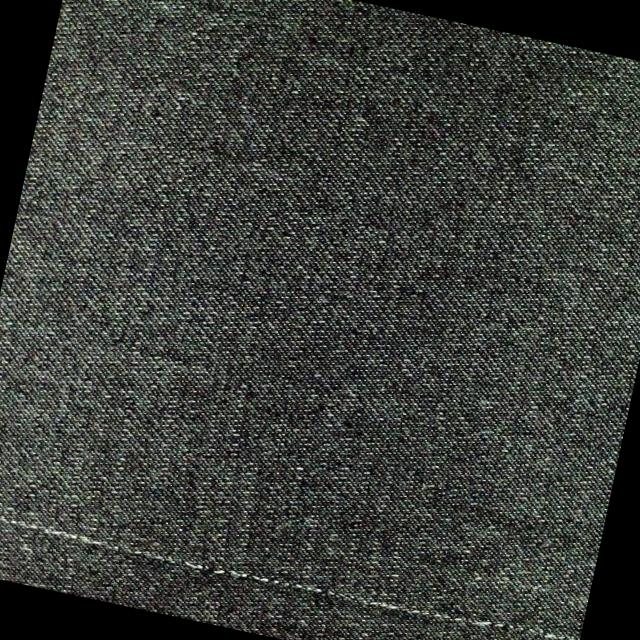Warp_Weft: (0, 495, 582, 640)
